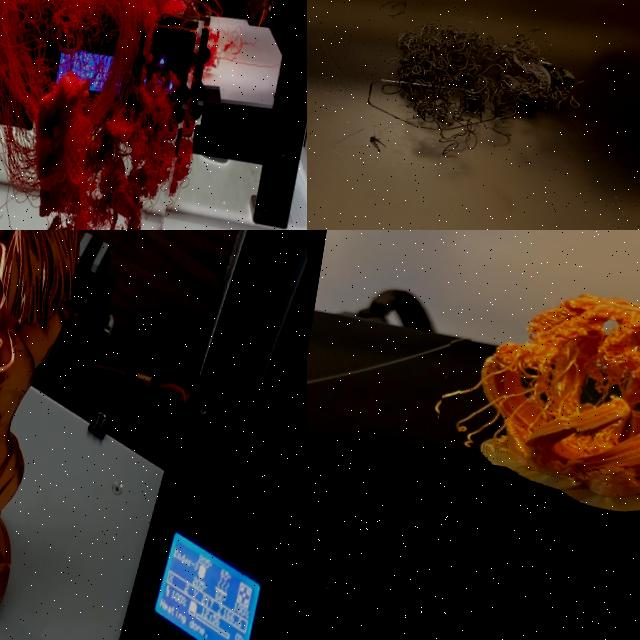spaghetti: (433, 260, 640, 501), (367, 26, 583, 160), (367, 0, 422, 30), (350, 130, 397, 160)
